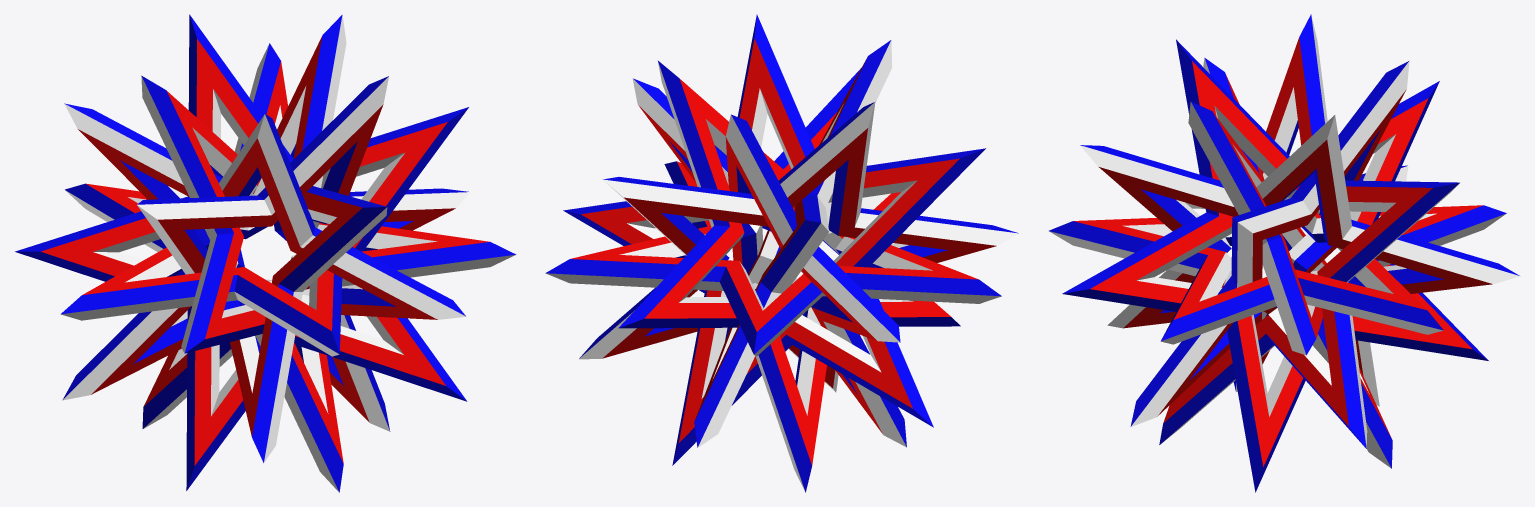
3 renders of one model, left to right at view 1: azimuth 30°, elevation 25°; view 2: azimuth 150°, elevation 25°; view 3: azimuth 270°, elevation 25°, orthographic. The views are drawn at different scales.
Parts seen in each view (by area): view 1: Component_1 (×23); view 2: Component_1 (×23); view 3: Component_1 (×23).
Boxes of the visible parts, <box> form: Component_1 (×23): <box>15,14,515,492</box>; Component_1 (×23): <box>545,14,1019,492</box>; Component_1 (×23): <box>1049,14,1519,492</box>.
Size of the model in its own units: 21.91 by 21.45 by 18.8.
